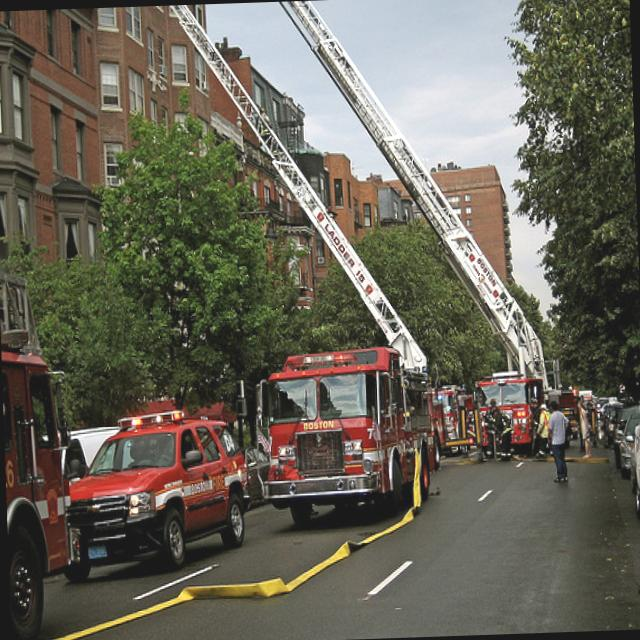Vehicle: (165, 0, 437, 529), (274, 0, 551, 462), (56, 419, 254, 583), (0, 338, 83, 640), (426, 380, 470, 456), (64, 426, 118, 485), (236, 444, 270, 507), (613, 411, 640, 481), (611, 406, 640, 470), (628, 399, 640, 509), (602, 402, 624, 449)
